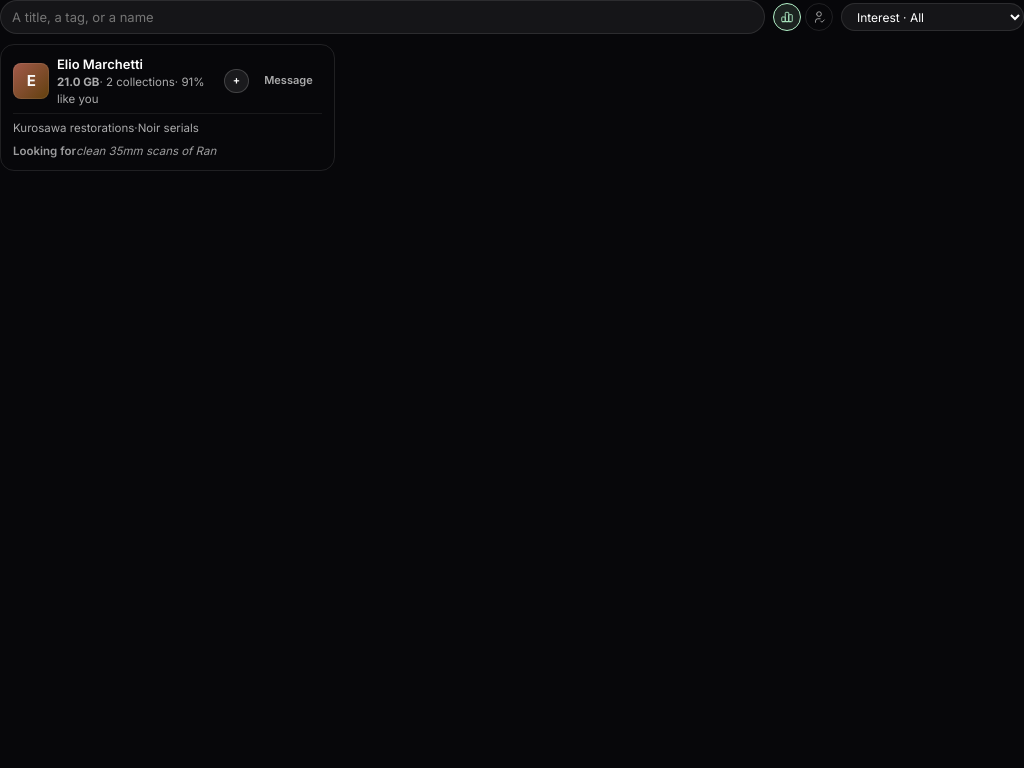
Test case: DiscoverBook › opens the person panel with Looking for as the FIRST section
Expected: the text "Elio Marchetti" is shown, [57,55,143,74]
Click the button that starts with "Elio Marchetti" at (31, 81), box [0,44,335,170]
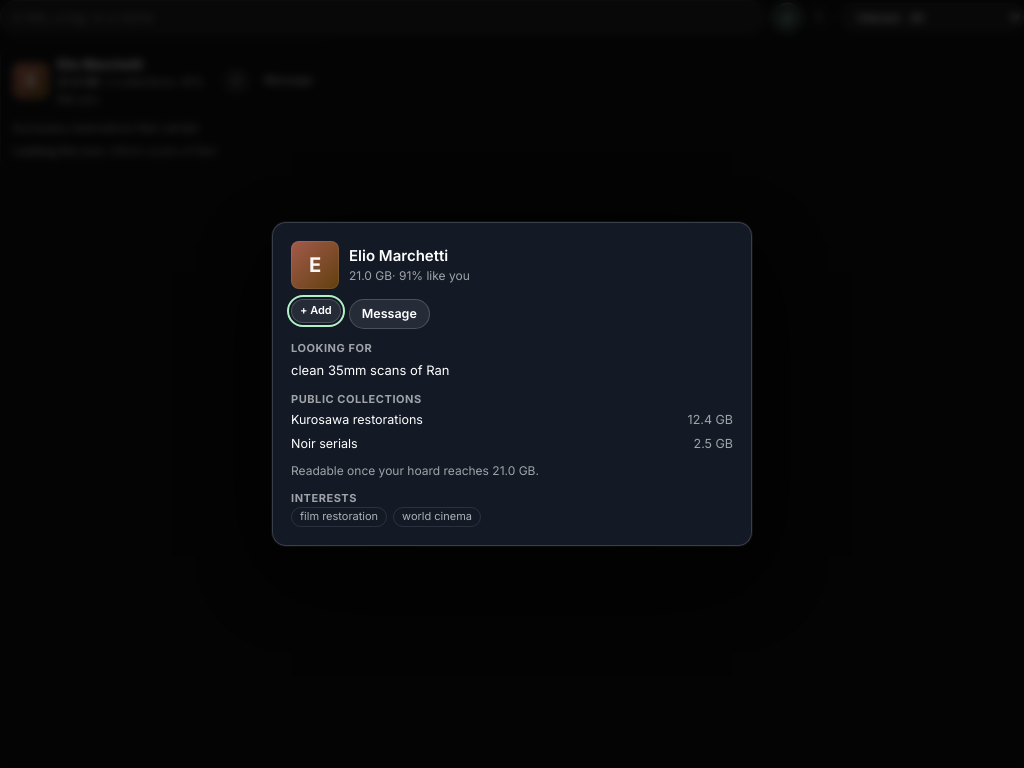
Result: the dialog with class "modal-card" is shown at [272,222,752,546]
